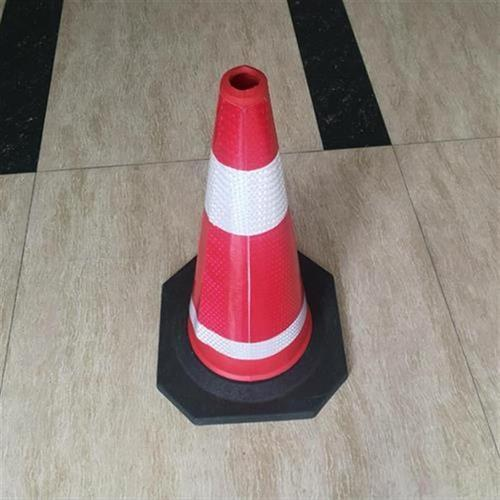cone_barrel: (170, 64, 320, 382)
